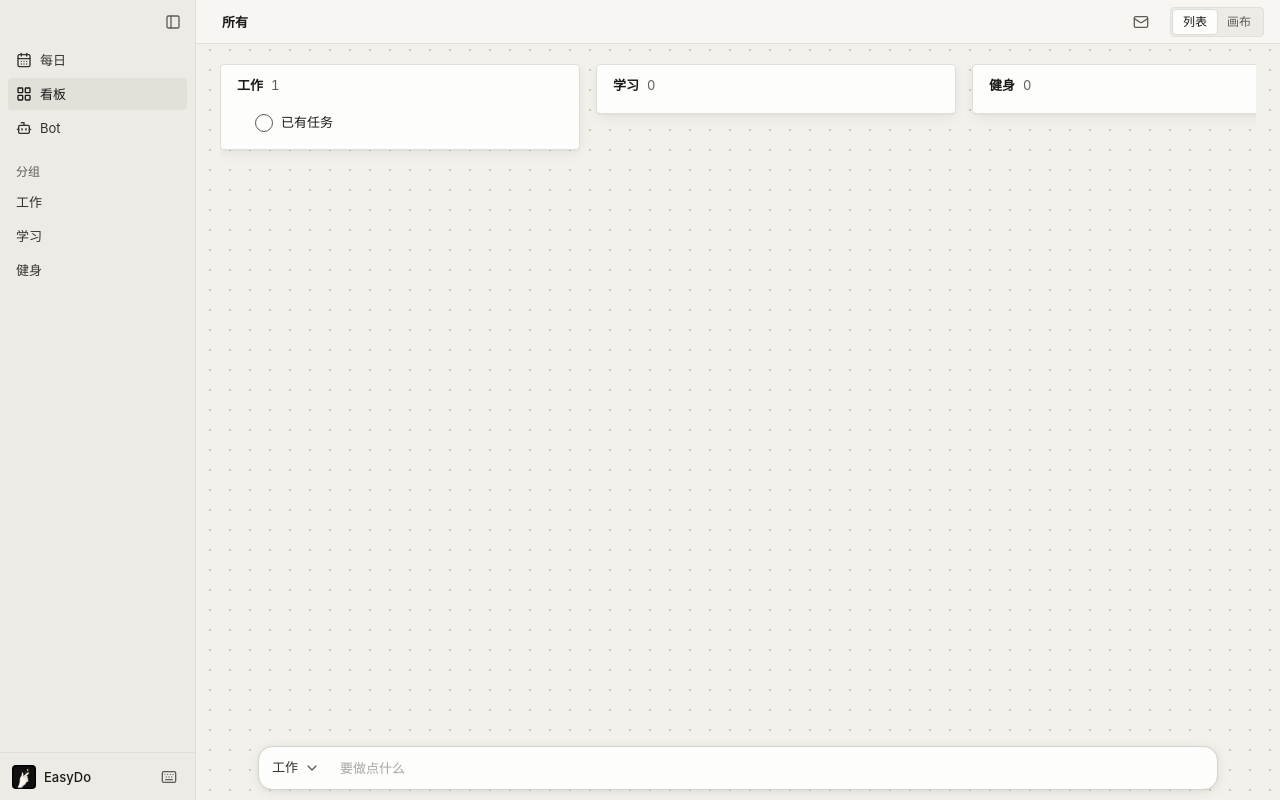
Test: BoardPage › selects the input group from the group menu
Check: the text box with placeholder "要做点什么" is shown, box [336, 752, 1172, 784]
Click the dropdown labelled "工作" at coordinates (296, 768), box [264, 752, 328, 784]
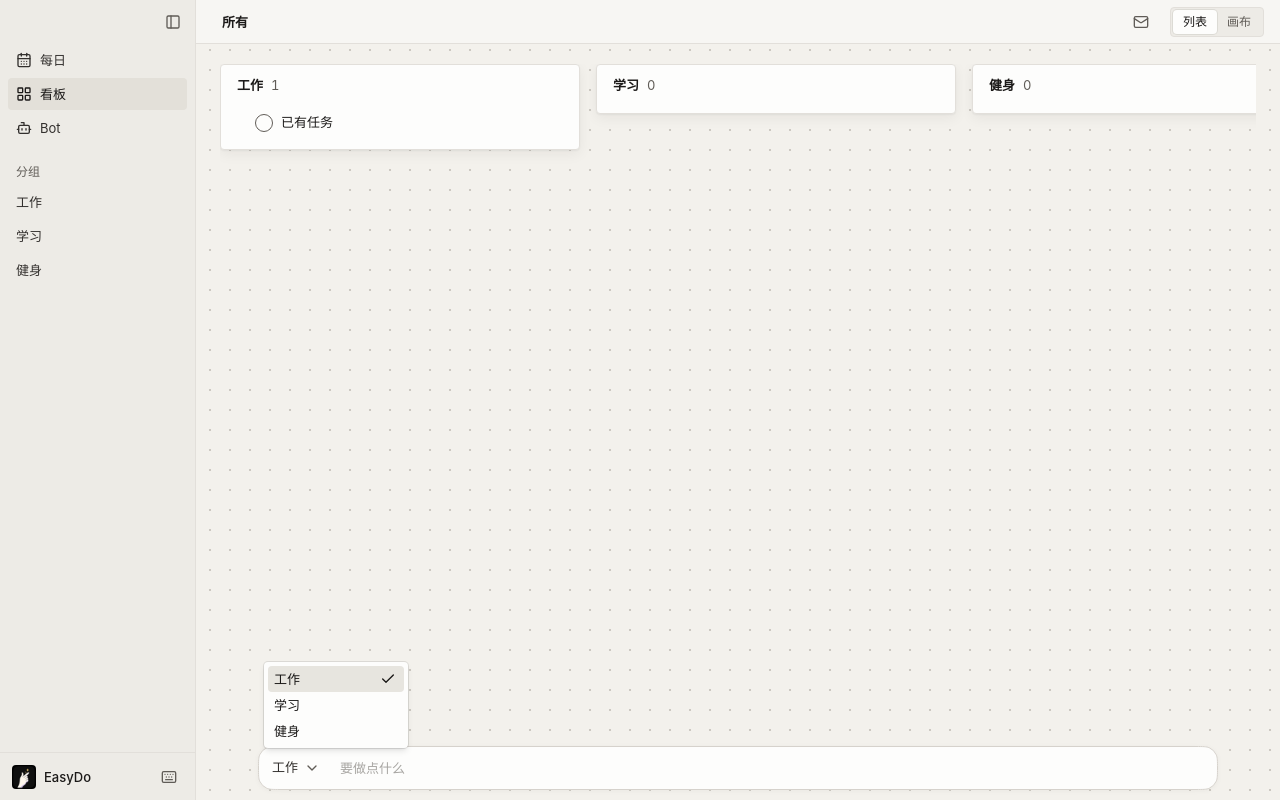
Click the option "学习" at coordinates (287, 705), box [274, 697, 300, 713]
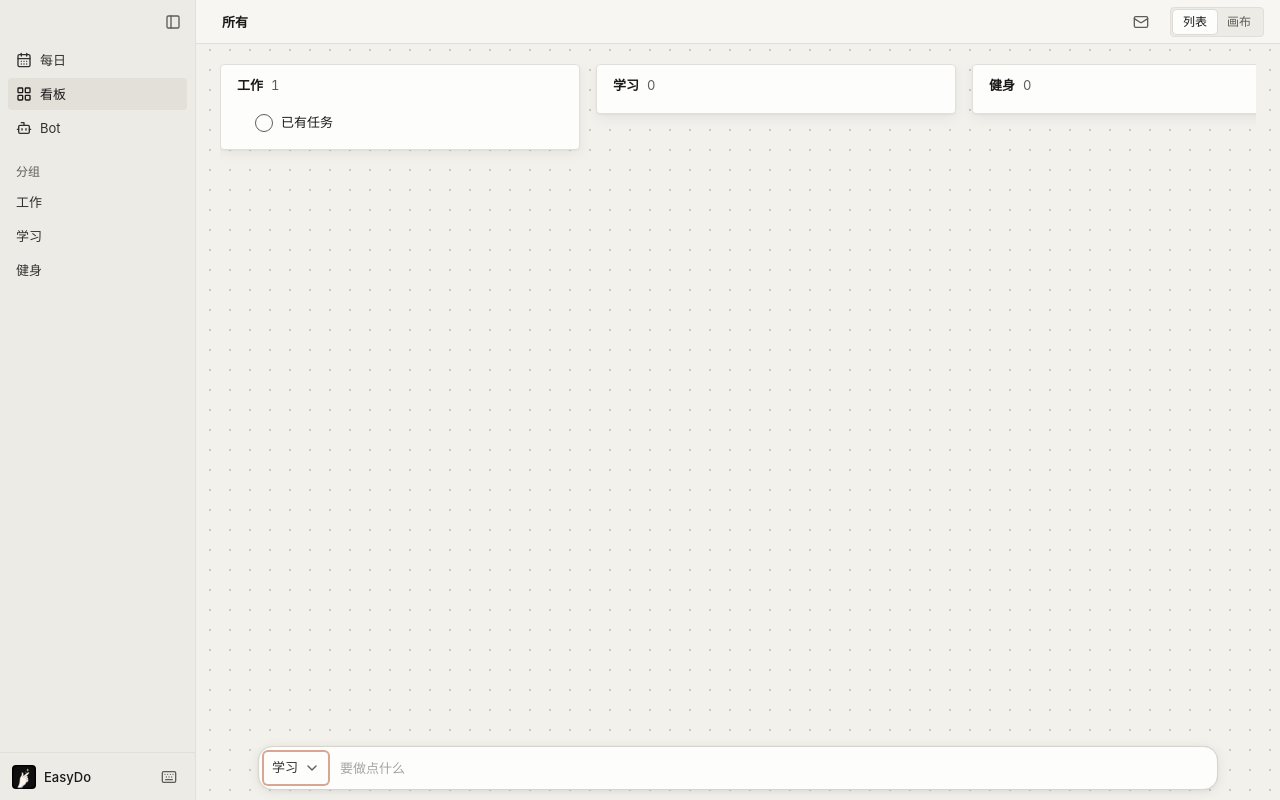
Check: the dropdown labelled "学习" is shown, box [264, 752, 328, 784]
